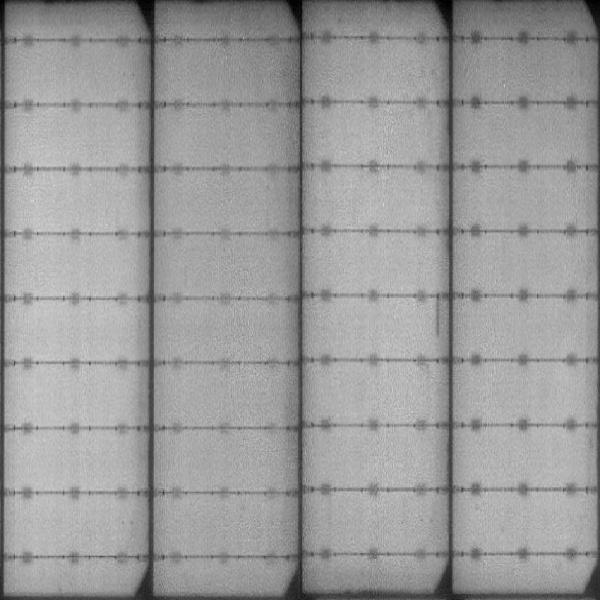scratch: (433, 291, 445, 341)
